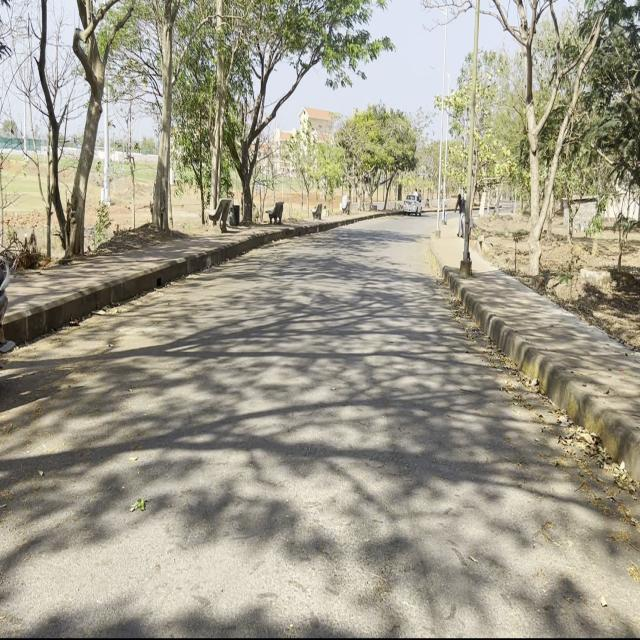Road: (1, 219, 637, 634)
